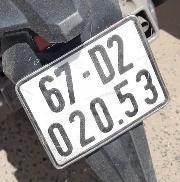0: (86, 92, 120, 139), (44, 118, 78, 160)
2: (104, 30, 139, 79), (63, 104, 100, 150)
3: (132, 65, 164, 110)
5: (109, 76, 145, 123)
6: (34, 72, 69, 118)
7: (50, 59, 85, 108)
D: (84, 38, 120, 88)
